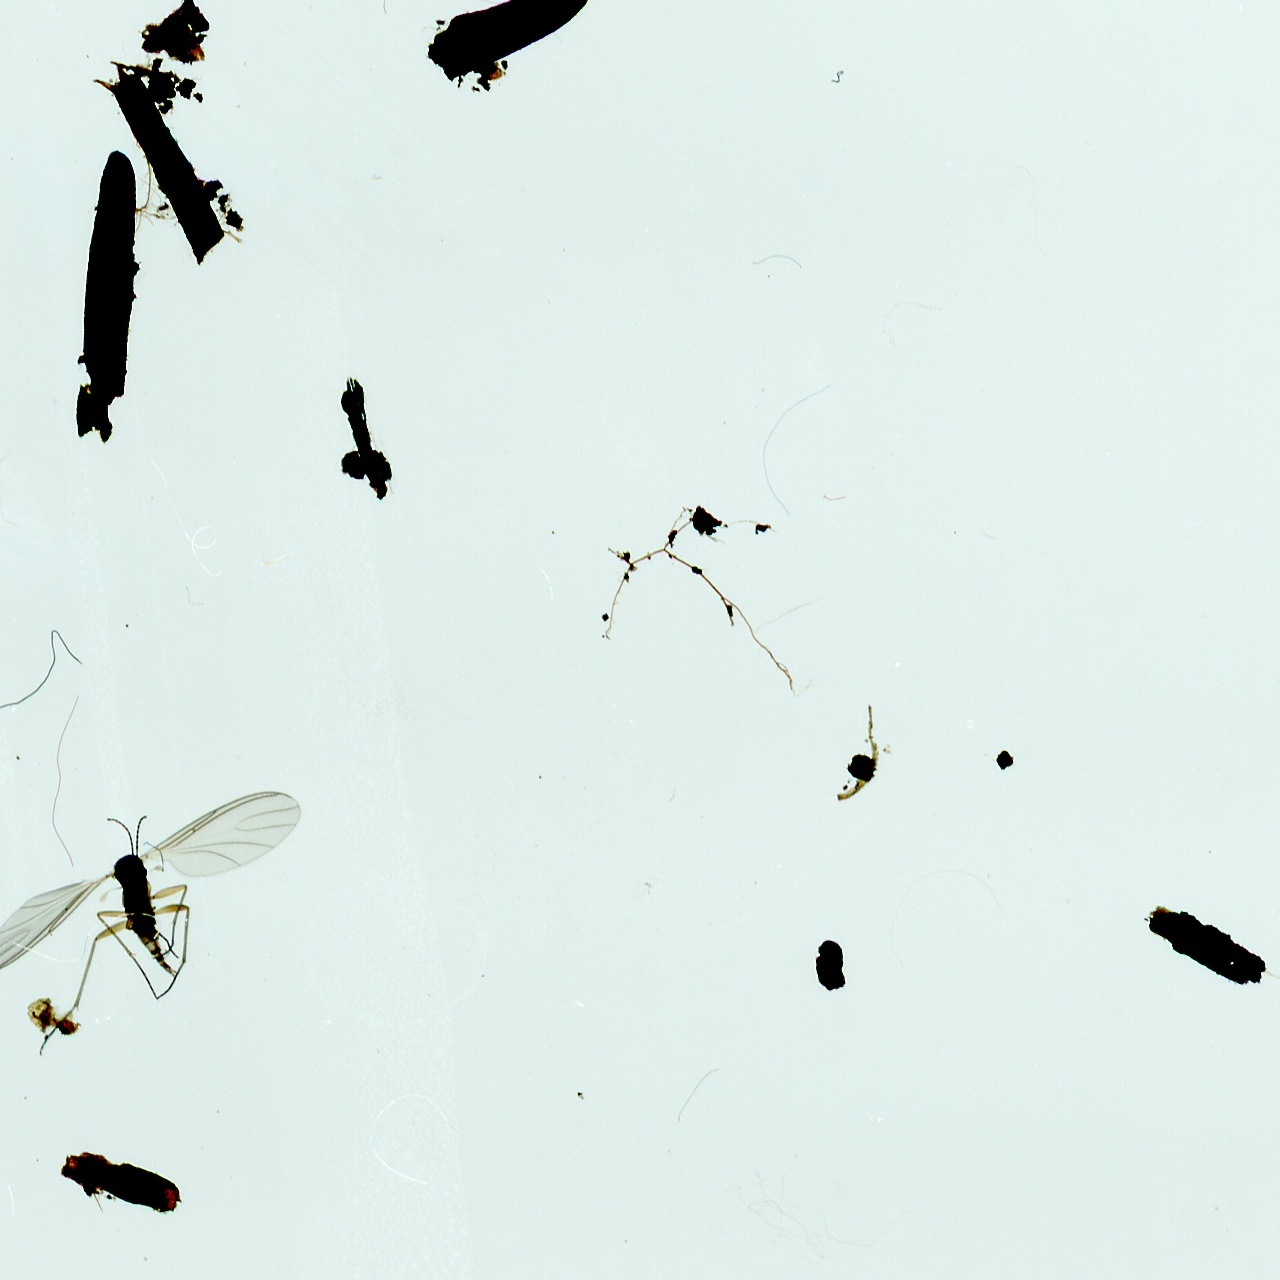arthropod: (0, 734, 359, 1074)
